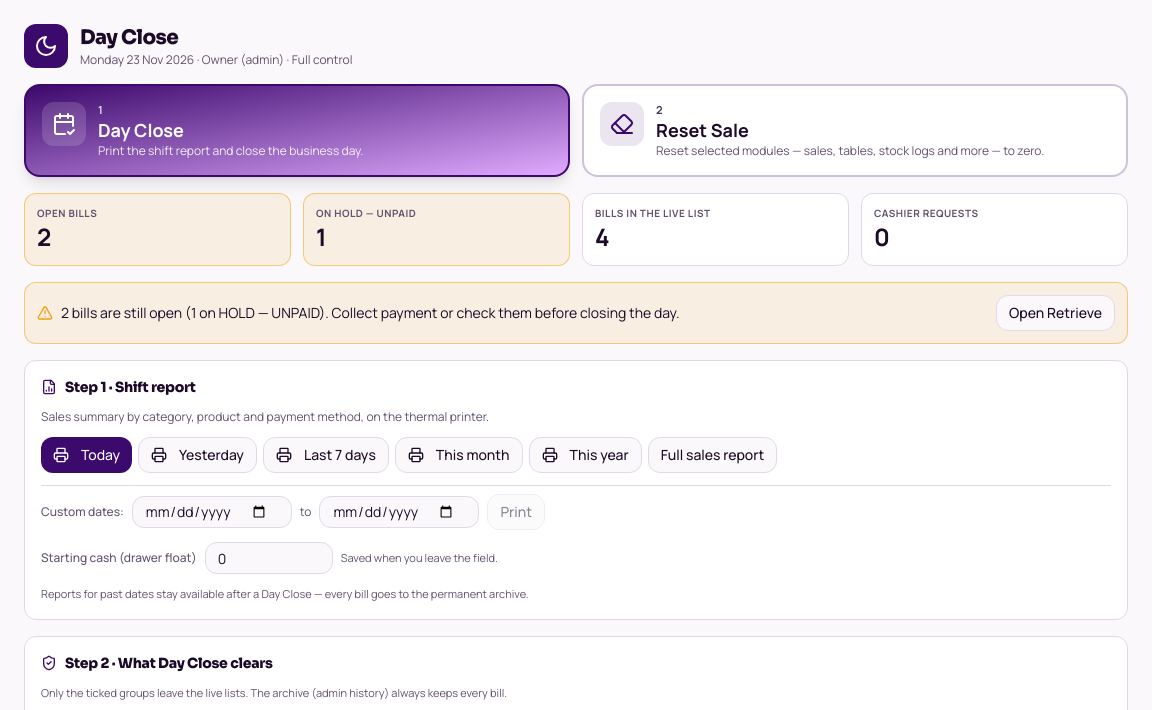
Test: the Day Close screen › opens straight onto the two workflows
This screenshot has width=1152, height=710.
Expected: the heading "Step 1 · Shift report" is shown, [41, 378, 196, 396]
Click the tab "Reset Sale" at x=622, y=124, box [582, 84, 1128, 177]
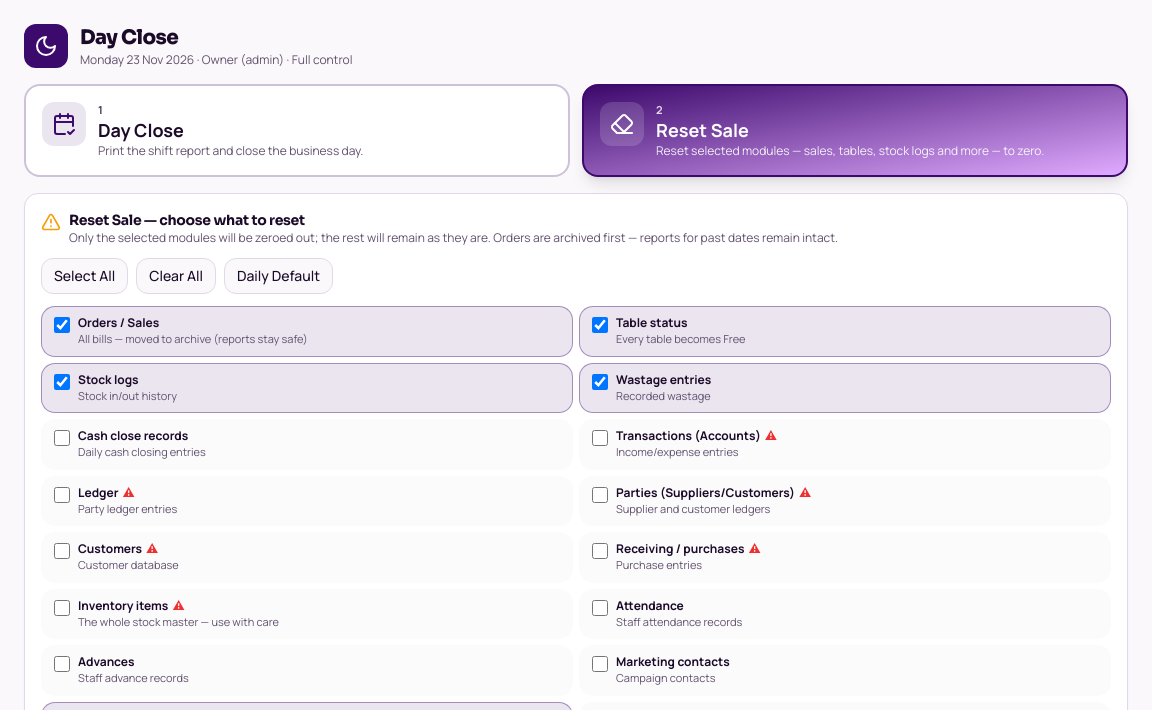
Now the heading "Reset Sale — choose what to reset" is shown, box [69, 211, 305, 229]
